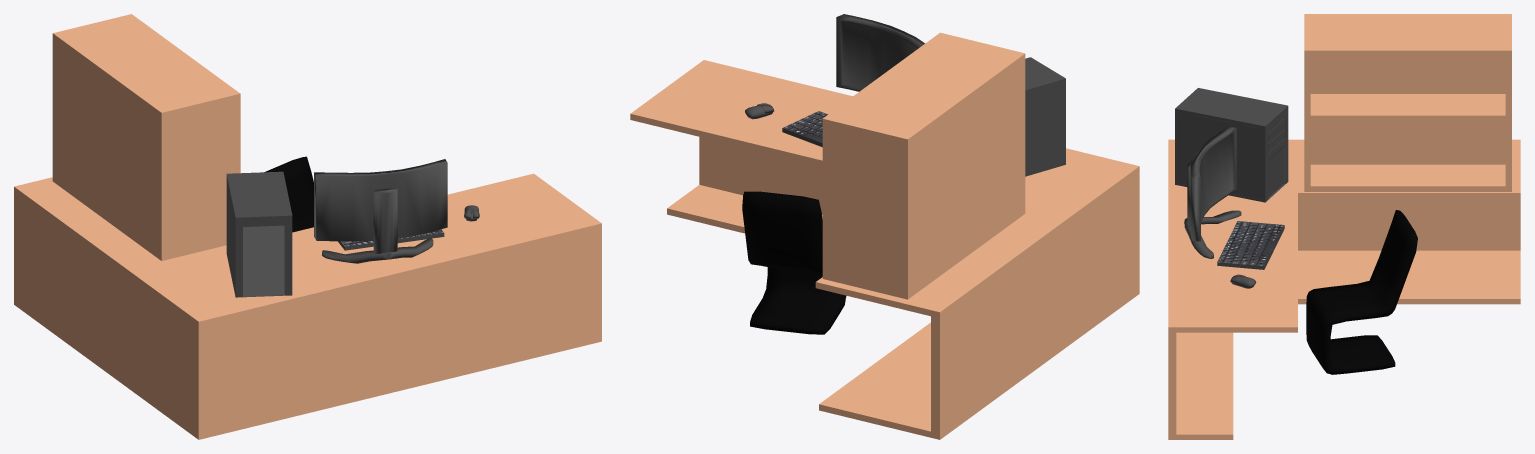
File: professor_site.glb
The picture shows the model from 3 angles, left to right: view 1: azimuth 30°, elevation 25°; view 2: azimuth 150°, elevation 25°; view 3: azimuth 270°, elevation 25°; orthographic projection. The views are drawn at different scales.
Visible parts, largest first — view 1: ProfessorTableMesh, ShelfMesh, MainMoniorMesh, MainComputerMesh, ProfessorChairMesh, MainKeyboardMesh; view 2: ProfessorTableMesh, ShelfMesh, ProfessorChairMesh, MainMoniorMesh, MainComputerMesh, MainKeyboardMesh; view 3: ProfessorTableMesh, ShelfMesh, ProfessorChairMesh, MainComputerMesh, MainMoniorMesh, MainKeyboardMesh.
Part boxes in pixels (bbox=[...]): ProfessorTableMesh: bbox=[14, 173, 601, 439]; ShelfMesh: bbox=[52, 14, 240, 260]; MainMoniorMesh: bbox=[314, 159, 447, 263]; MainComputerMesh: bbox=[226, 171, 292, 297]; ProfessorChairMesh: bbox=[264, 156, 313, 232]; MainKeyboardMesh: bbox=[338, 229, 444, 250]; ProfessorTableMesh: bbox=[630, 60, 1139, 439]; ShelfMesh: bbox=[822, 32, 1025, 299]; ProfessorChairMesh: bbox=[742, 191, 846, 334]; MainMoniorMesh: bbox=[836, 14, 924, 91]; MainComputerMesh: bbox=[1025, 57, 1065, 176]; MainKeyboardMesh: bbox=[782, 111, 827, 147]; ProfessorTableMesh: bbox=[1168, 139, 1520, 439]; ShelfMesh: bbox=[1304, 14, 1511, 191]; ProfessorChairMesh: bbox=[1306, 210, 1417, 374]; MainComputerMesh: bbox=[1175, 88, 1288, 202]; MainMoniorMesh: bbox=[1184, 127, 1241, 258]; MainKeyboardMesh: bbox=[1217, 221, 1284, 269].
Size of the model in its own units: 3.14 by 2.01 by 2.49.
Materials: 5 (1 with a texture image).
